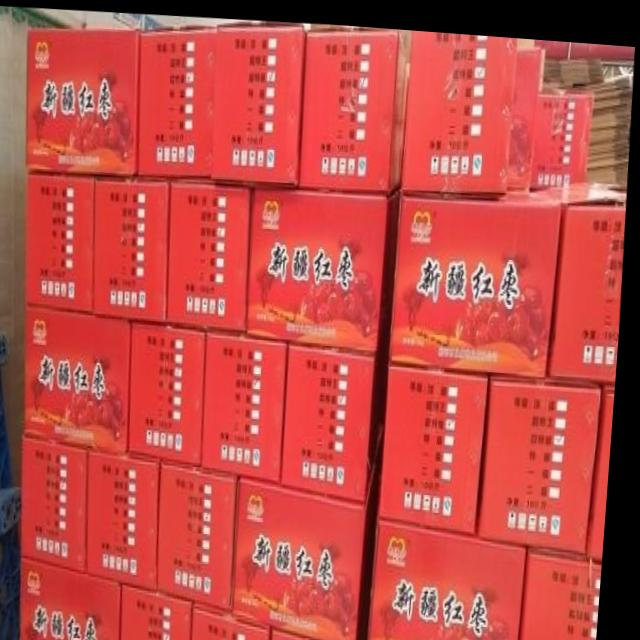box: (394, 180, 563, 368), (242, 455, 384, 640), (252, 182, 402, 346), (485, 370, 607, 543), (376, 513, 535, 640), (401, 24, 518, 191), (385, 357, 494, 526), (287, 325, 394, 496), (301, 20, 408, 186), (27, 26, 140, 174), (30, 304, 135, 454), (551, 178, 629, 371), (215, 16, 307, 178), (171, 176, 253, 328), (209, 329, 292, 477), (140, 22, 216, 172), (166, 459, 242, 603), (134, 319, 211, 461), (97, 178, 172, 318), (95, 448, 166, 585), (29, 174, 97, 311), (29, 434, 94, 570), (528, 541, 610, 640), (29, 559, 129, 640), (535, 87, 594, 179), (511, 40, 541, 178), (130, 582, 201, 640), (597, 377, 620, 550), (201, 600, 279, 640), (280, 624, 337, 640)
